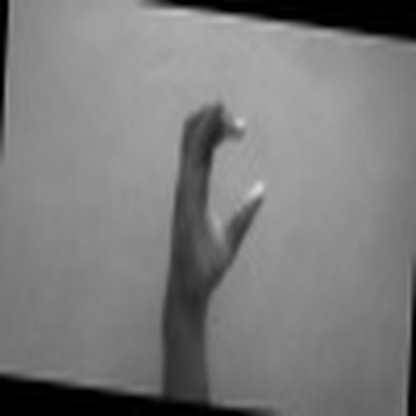c: (159, 99, 280, 294)
